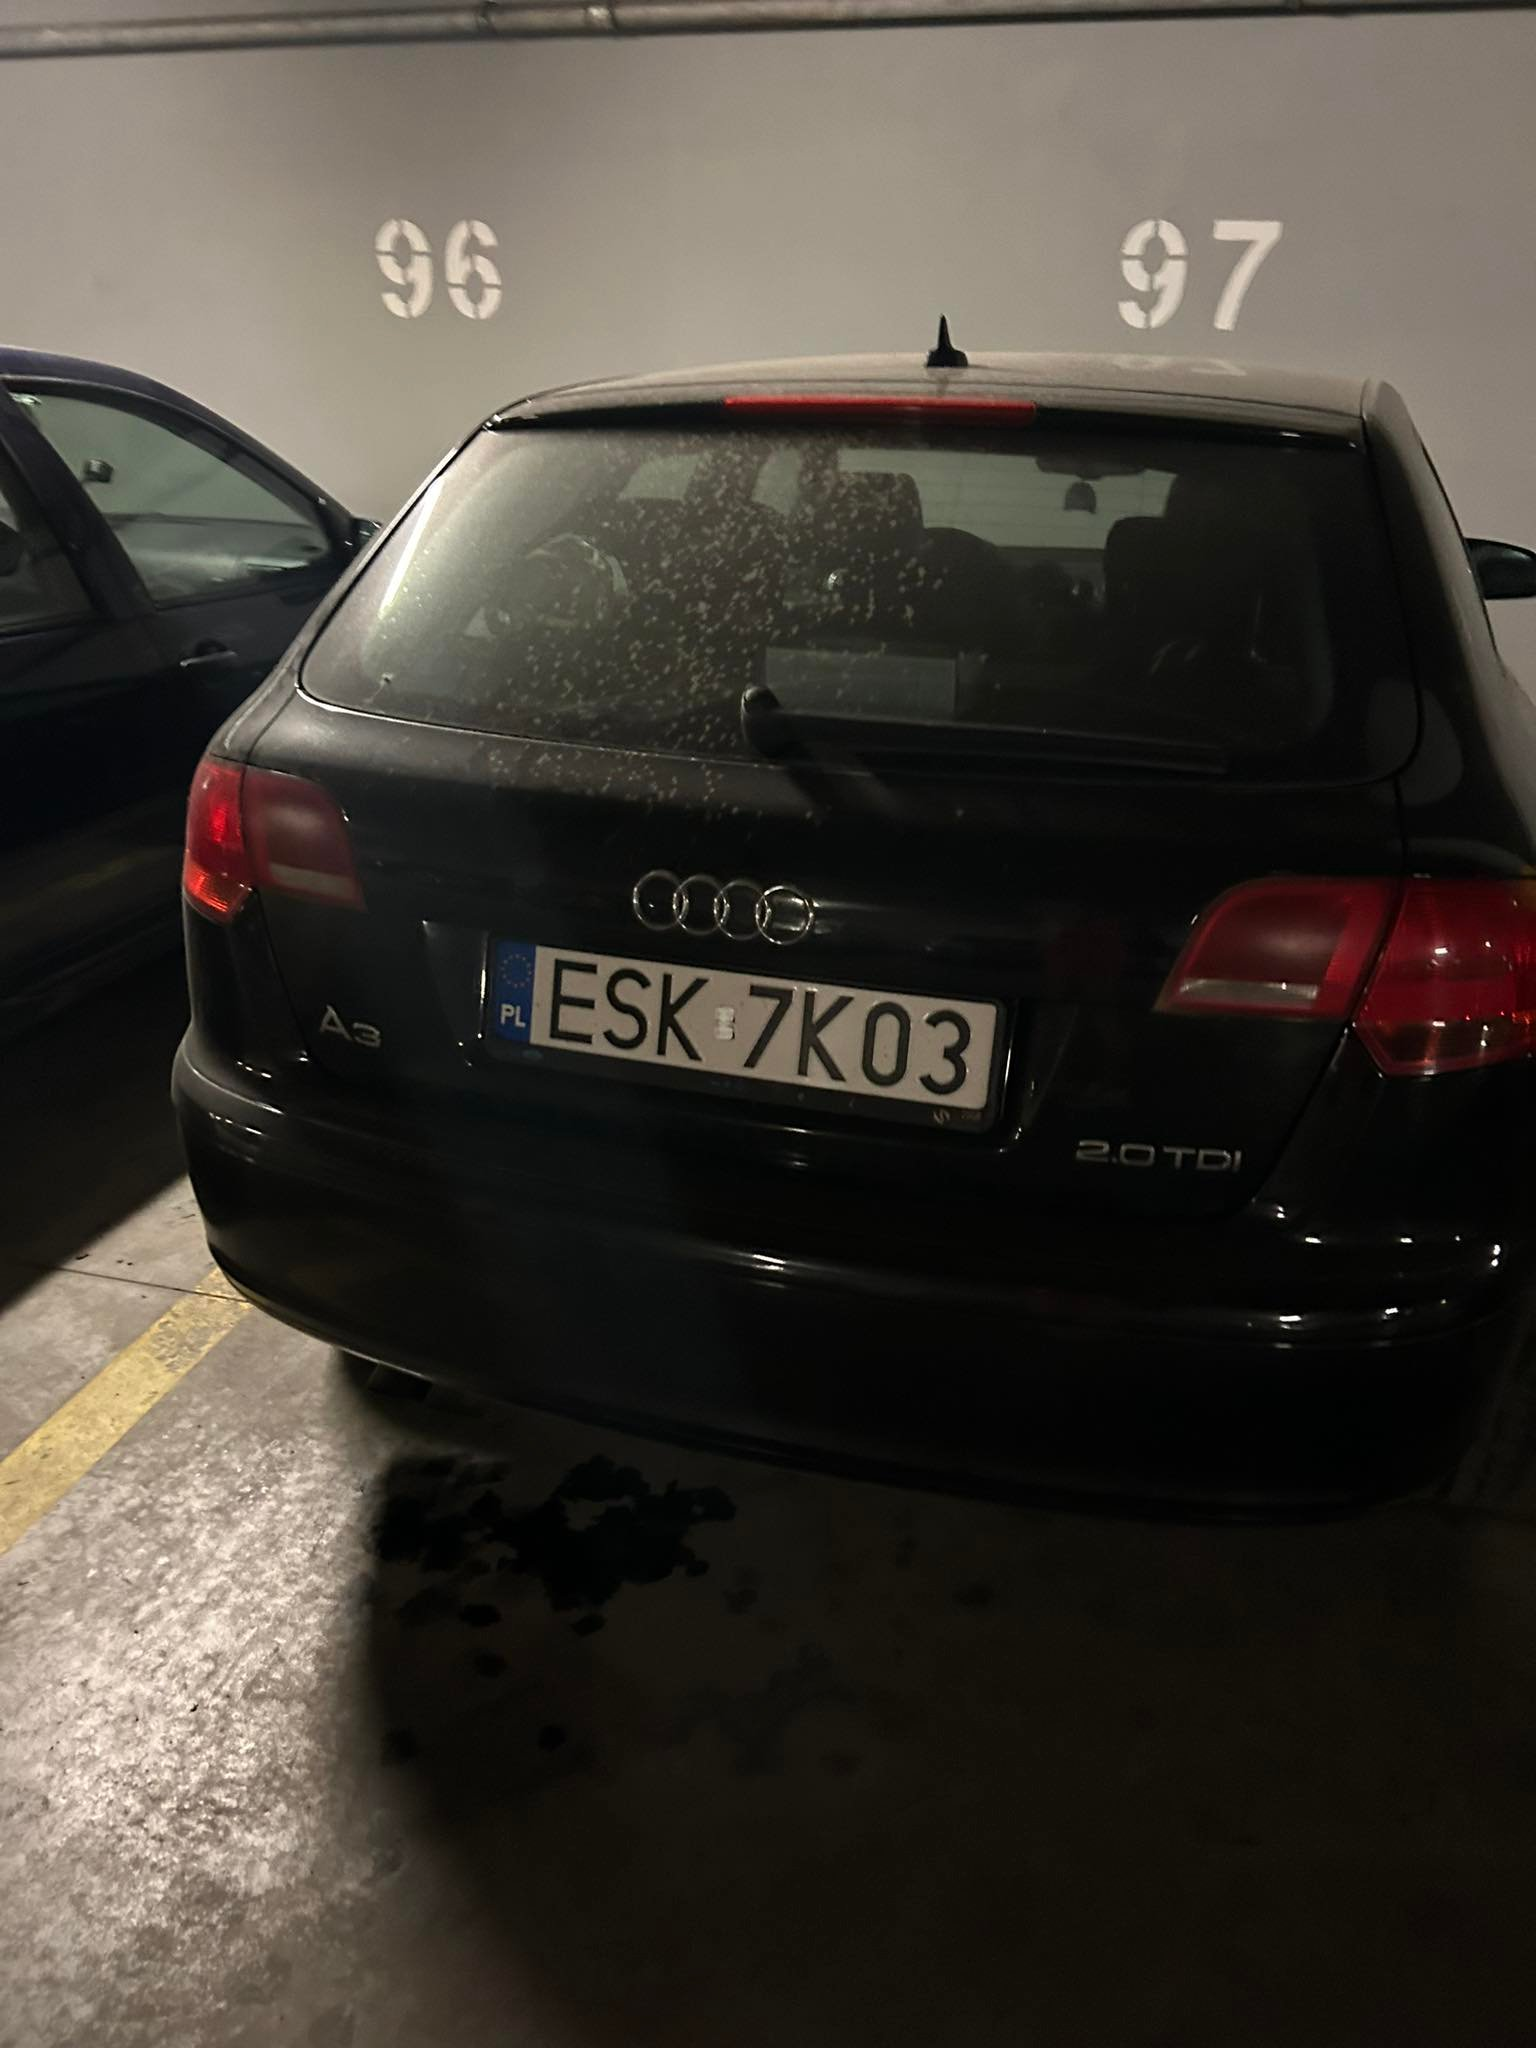number_plate: (474, 930, 1001, 1139)
